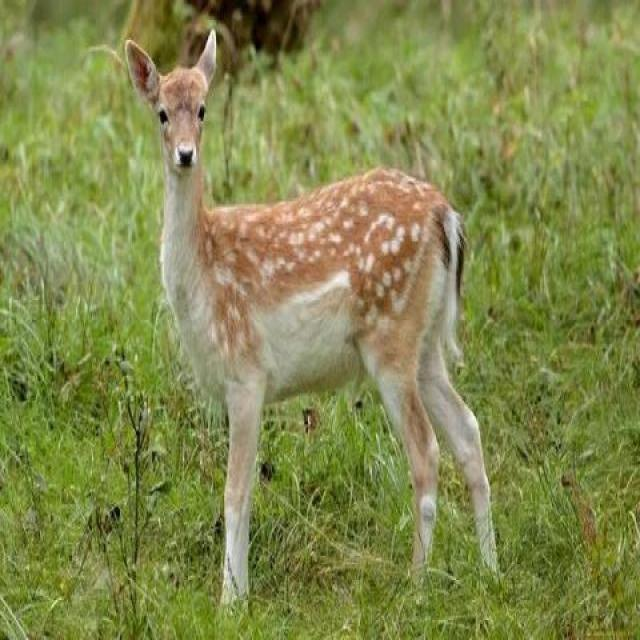deer: (95, 0, 503, 585)
